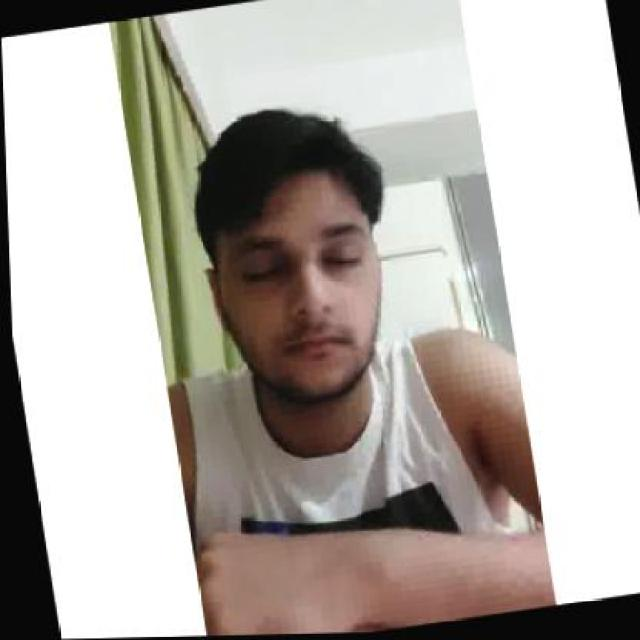inattentif: (173, 92, 399, 418)
